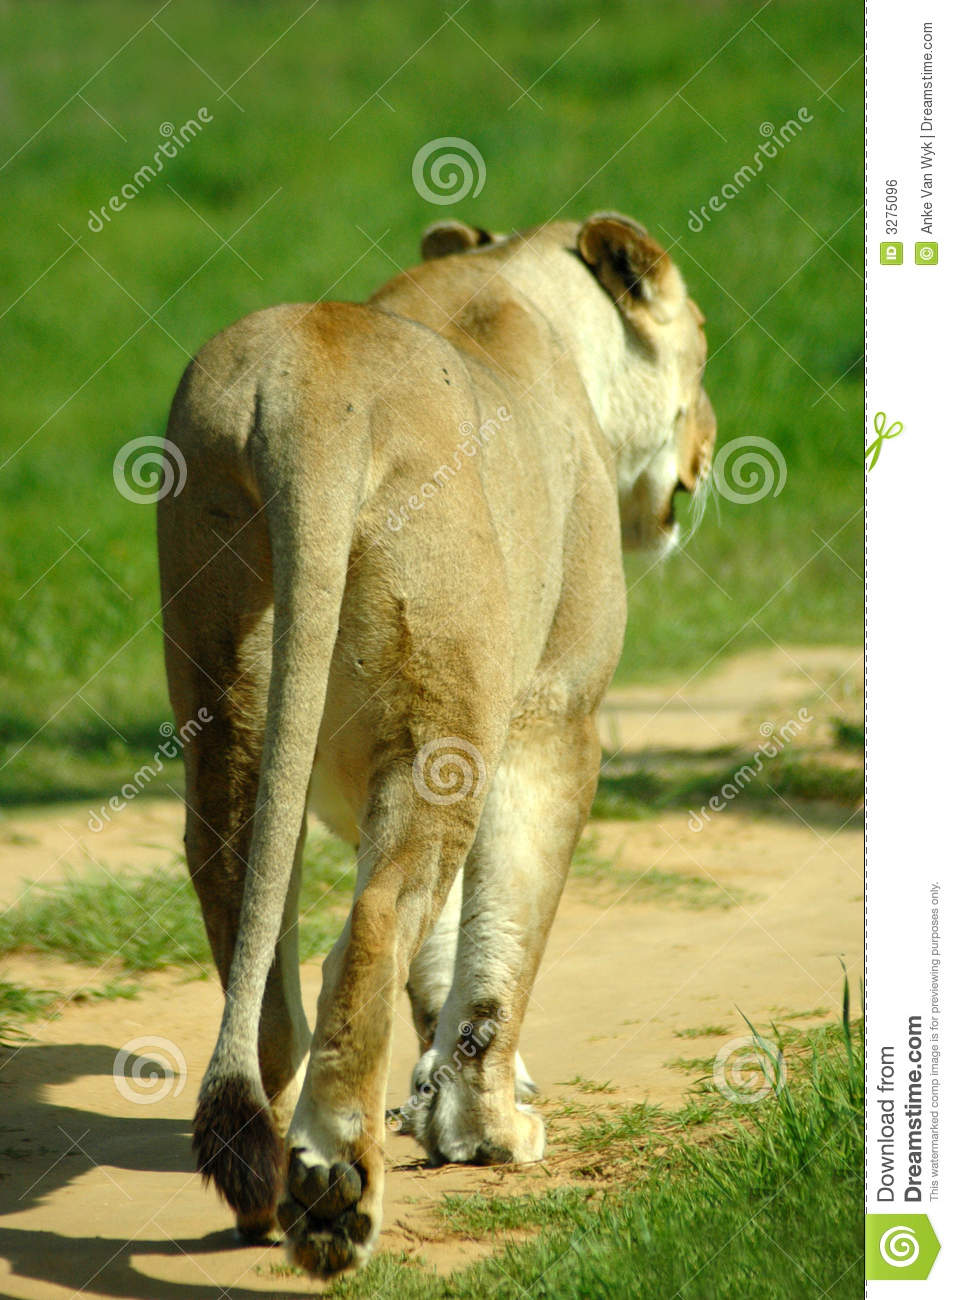lion: (152, 204, 719, 1278)
